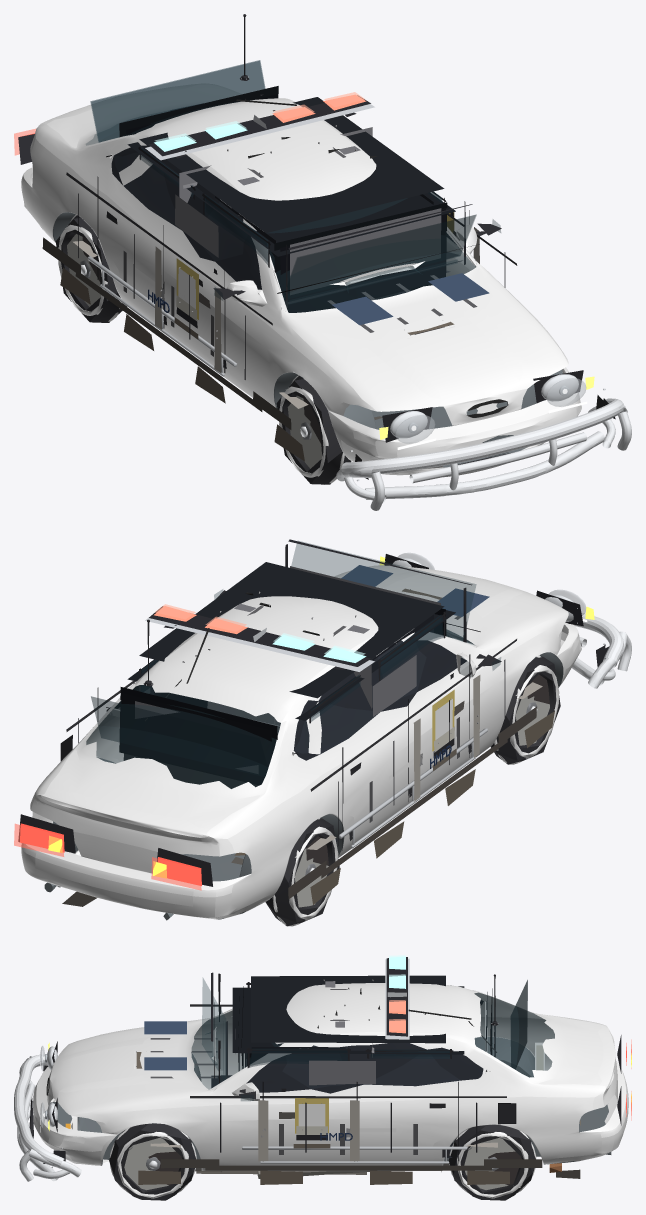
The model's file is hmpd_cruiser_v12b_lod1.glb.
3 views of the same model, one above another, from view 1: azimuth 30°, elevation 25°; view 2: azimuth 150°, elevation 25°; view 3: azimuth 270°, elevation 25° (orthographic). The views are drawn at different scales.
Parts seen in each view (by area): view 1: _LOD1tmp_Body.002, _LOD1tmp_v11_int_head, _LOD1tmp_v12_grimeglass_0, _LOD1tmp_windshield_v10, _LOD1tmp_rearglass_v10, _LOD1tmp_pushbar_upper, _LOD1tmp_interior_occ_head, _LOD1tmp_interior_occ2_ws, _LOD1tmp_pushbar_lower, _LOD1tmp_Wheel_FR.007, _LOD1tmp_Wheel_RR.005, _LOD1tmp_lightbar_shell (+17 smaller); view 2: _LOD1tmp_Body.002, _LOD1tmp_v11_int_head, _LOD1tmp_interior_occ2_rg, _LOD1tmp_rearglass_v10, _LOD1tmp_windshield_v10, _LOD1tmp_Wheel_RR.005, _LOD1tmp_Wheel_FR.007, _LOD1tmp_lightbar_shell, _LOD1tmp_v11_occ_rg, _LOD1tmp_v12_grimeglass_1, _LOD1tmp_dirt_rocker_-1, _LOD1tmp_interior_occ_head (+22 smaller); view 3: _LOD1tmp_Body.002, _LOD1tmp_v11_int_head, _LOD1tmp_Wheel_FL.006, _LOD1tmp_Wheel_RL.005, _LOD1tmp_interior_occ_head, _LOD1tmp_dirt_rocker_1, _LOD1tmp_v12_grimeglass_2, _LOD1tmp_pushbar_upper, _LOD1tmp_windshield_v10, _LOD1tmp_winpane_FR, _LOD1tmp_v11_sidewall_0, _LOD1tmp_rearglass_v10 (+24 smaller).
Boxes of the visible parts, left/top/right/bottom form: _LOD1tmp_Body.002: left=21, top=83, right=581, bottom=477; _LOD1tmp_v11_int_head: left=139, top=97, right=444, bottom=232; _LOD1tmp_v12_grimeglass_0: left=290, top=208, right=441, bottom=294; _LOD1tmp_windshield_v10: left=283, top=214, right=476, bottom=299; _LOD1tmp_rearglass_v10: left=90, top=60, right=265, bottom=142; _LOD1tmp_pushbar_upper: left=341, top=398, right=623, bottom=476; _LOD1tmp_interior_occ_head: left=127, top=142, right=455, bottom=256; _LOD1tmp_interior_occ2_ws: left=280, top=208, right=445, bottom=312; _LOD1tmp_pushbar_lower: left=365, top=431, right=604, bottom=499; _LOD1tmp_Wheel_FR.007: left=276, top=376, right=351, bottom=484; _LOD1tmp_Wheel_RR.005: left=55, top=215, right=126, bottom=322; _LOD1tmp_lightbar_shell: left=149, top=95, right=370, bottom=156; _LOD1tmp_Body.002: left=21, top=565, right=581, bottom=920; _LOD1tmp_v11_int_head: left=139, top=562, right=444, bottom=698; _LOD1tmp_interior_occ2_rg: left=120, top=693, right=271, bottom=784; _LOD1tmp_rearglass_v10: left=91, top=696, right=267, bottom=776; _LOD1tmp_windshield_v10: left=291, top=541, right=476, bottom=641; _LOD1tmp_Wheel_RR.005: left=265, top=818, right=339, bottom=926; _LOD1tmp_Wheel_FR.007: left=490, top=656, right=560, bottom=764; _LOD1tmp_lightbar_shell: left=149, top=606, right=370, bottom=666; _LOD1tmp_v11_occ_rg: left=119, top=687, right=277, bottom=785; _LOD1tmp_v12_grimeglass_1: left=372, top=655, right=416, bottom=716; _LOD1tmp_dirt_rocker_-1: left=321, top=738, right=507, bottom=878; _LOD1tmp_interior_occ_head: left=127, top=610, right=455, bottom=720; _LOD1tmp_Body.002: left=33, top=983, right=628, bottom=1171; _LOD1tmp_v11_int_head: left=251, top=975, right=445, bottom=1043; _LOD1tmp_Wheel_FL.006: left=109, top=1123, right=196, bottom=1200; _LOD1tmp_Wheel_RL.005: left=448, top=1124, right=535, bottom=1200; _LOD1tmp_interior_occ_head: left=232, top=986, right=464, bottom=1054; _LOD1tmp_dirt_rocker_1: left=205, top=1165, right=491, bottom=1170; _LOD1tmp_v12_grimeglass_2: left=309, top=1060, right=375, bottom=1085; _LOD1tmp_pushbar_upper: left=14, top=1054, right=64, bottom=1168; _LOD1tmp_windshield_v10: left=202, top=978, right=226, bottom=1079; _LOD1tmp_winpane_FR: left=249, top=1048, right=347, bottom=1067; _LOD1tmp_v11_sidewall_0: left=124, top=1138, right=175, bottom=1190; _LOD1tmp_rearglass_v10: left=510, top=980, right=527, bottom=1069.
Bounding box in the file's own units: 2.06 × 1.86 × 5.07.
